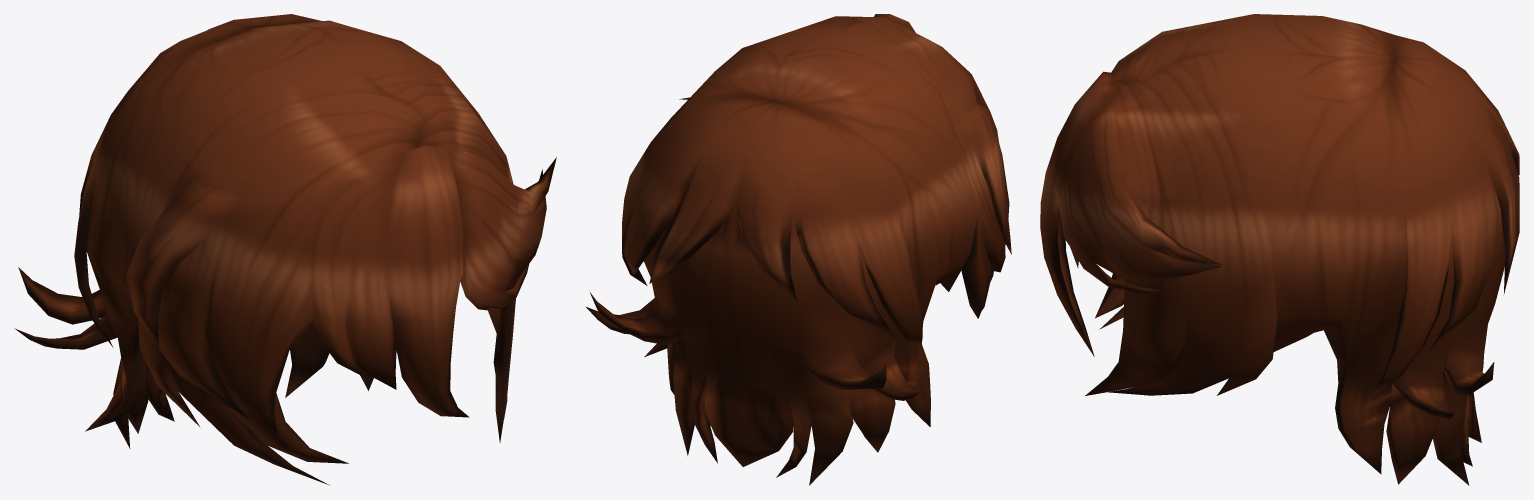
The model's file is Photo_RojasuHair.fbx.
The picture shows the model from 3 angles, left to right: view 1: azimuth 30°, elevation 25°; view 2: azimuth 150°, elevation 25°; view 3: azimuth 270°, elevation 25°; orthographic projection. The views are drawn at different scales.
Parts seen in each view (by area): view 1: Photo_RojasuHair; view 2: Photo_RojasuHair; view 3: Photo_RojasuHair.
Boxes of the visible parts, x1,y1,x2,y2 form: Photo_RojasuHair: (14, 14, 556, 485); Photo_RojasuHair: (586, 14, 1011, 485); Photo_RojasuHair: (1040, 14, 1519, 485).
Size of the model in its own units: 24.75 by 24.9 by 25.88.
